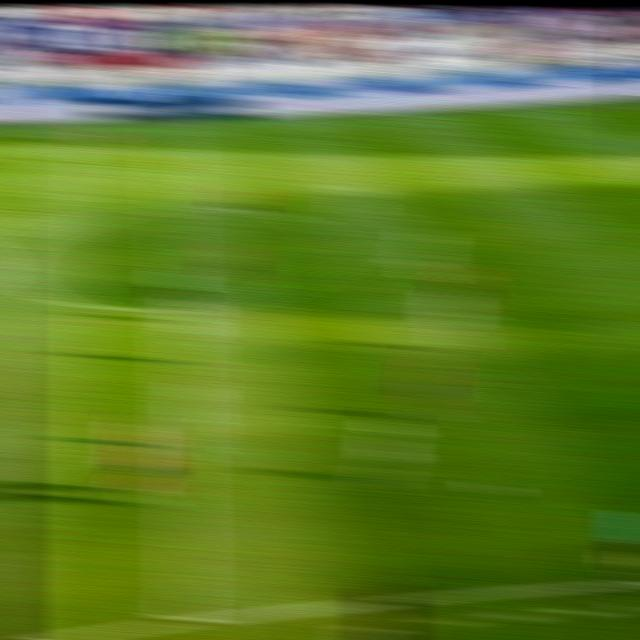halfcircle_top: (150, 192, 200, 223)
midline_bottom_intersection: (161, 598, 213, 633)
midline_top_intersection: (151, 118, 191, 143)
